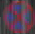No Stopping: (2, 0, 34, 32)
